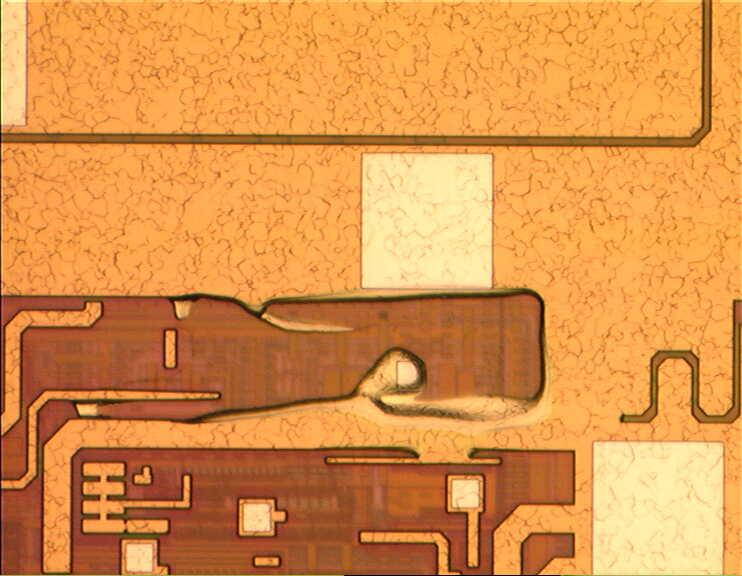BLOCK ETCH: (172, 282, 564, 450)
